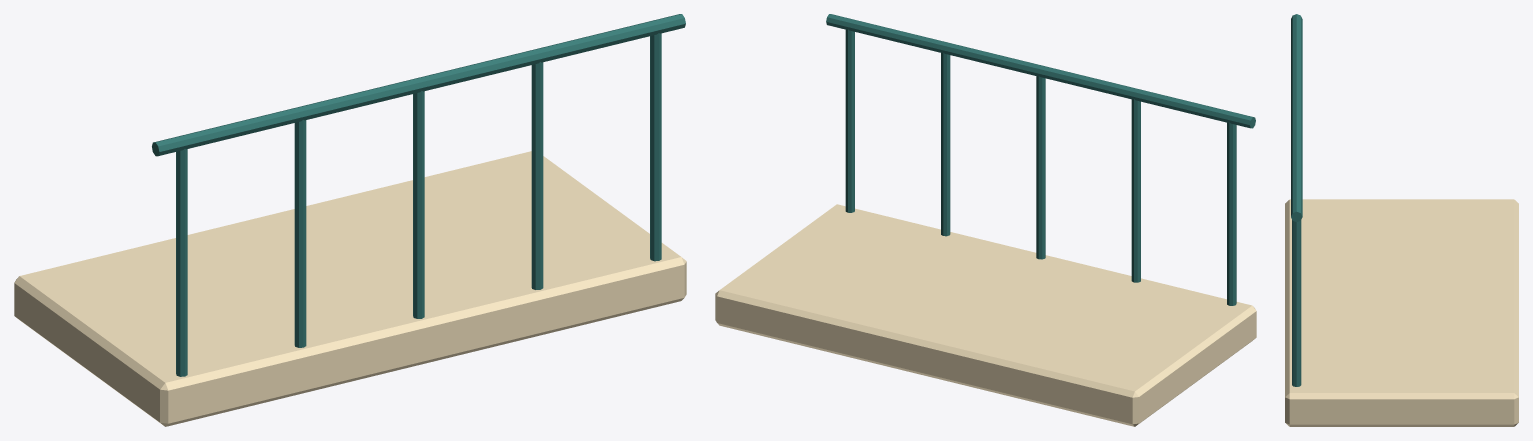
The model's file is Balcony_2m.fbx.
The picture shows the model from 3 angles, left to right: view 1: azimuth 30°, elevation 25°; view 2: azimuth 150°, elevation 25°; view 3: azimuth 270°, elevation 25°; orthographic projection. The views are drawn at different scales.
Parts seen in each view (by area): view 1: Floor, TopRail.001, Post.003, Post.005, Post.002, Post.004, Post.006; view 2: Floor, TopRail.001, Post.003, Post.004, Post.006, Post.002, Post.005; view 3: Floor, TopRail.001, Post.006.
Part boxes in pixels (x1,y1,x2,y2): Floor: (14, 151, 686, 426); TopRail.001: (152, 14, 685, 156); Post.003: (294, 120, 306, 347); Post.005: (531, 62, 543, 289); Post.002: (176, 149, 187, 376); Post.004: (413, 91, 424, 318); Post.006: (650, 33, 661, 261); Floor: (715, 204, 1256, 426); TopRail.001: (826, 14, 1255, 128); Post.003: (1131, 99, 1140, 282); Post.004: (1036, 76, 1045, 259); Post.006: (845, 29, 854, 212); Post.002: (1227, 122, 1236, 305); Post.005: (941, 52, 950, 236); Floor: (1285, 199, 1518, 426); TopRail.001: (1291, 14, 1302, 222); Post.006: (1292, 220, 1301, 386).
Bounding box in the file's own units: 2 × 1.03 × 1.
